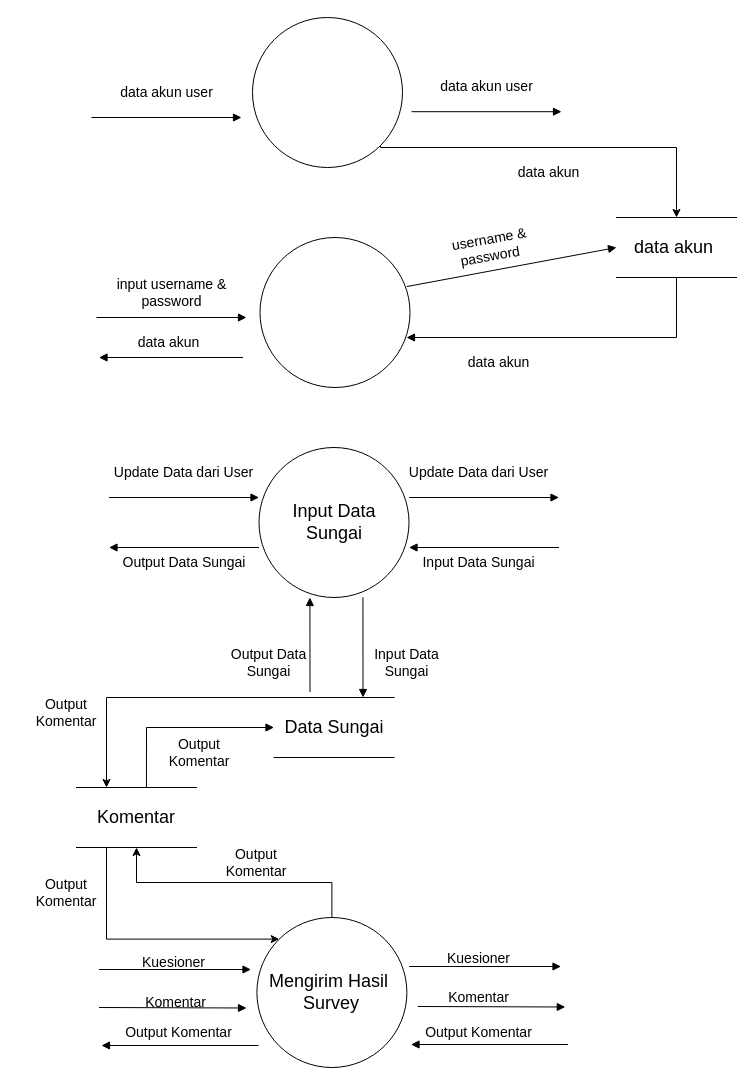
Image size: 755x1085. Some labels were removed from this diagram. The shapes that lost their labels are listed below. From the top down, each one's centre as x and y in pixels, then its label:
[327,92]: Regristasi akun
[334,312]: Login user
